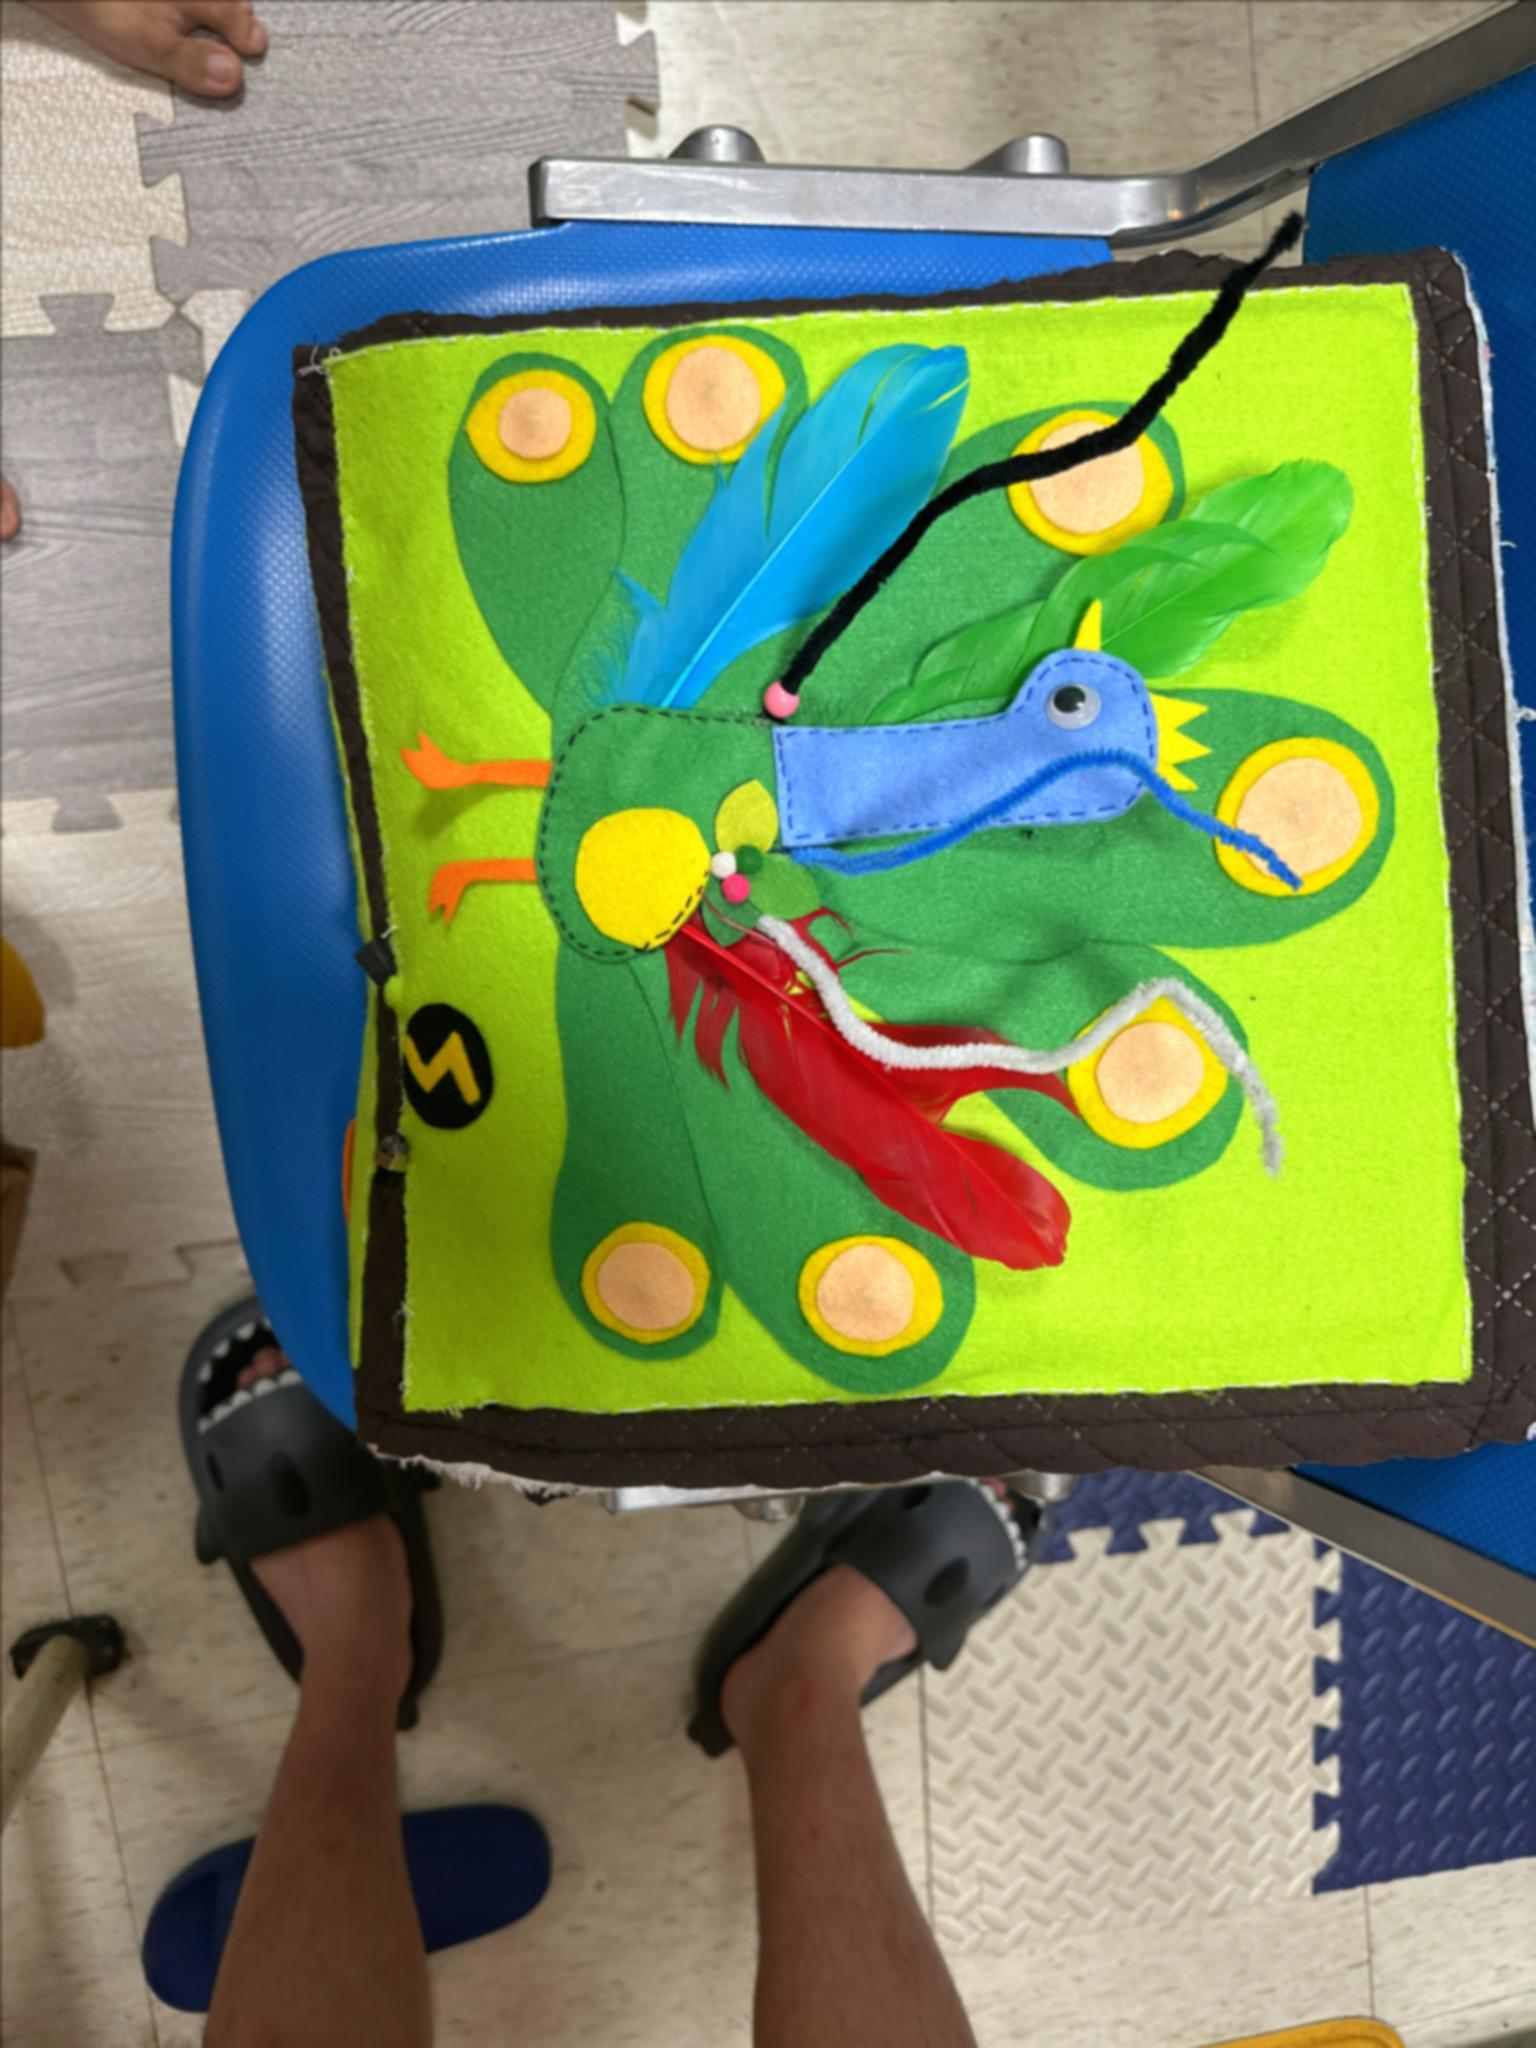bead: (747, 661, 824, 735)
